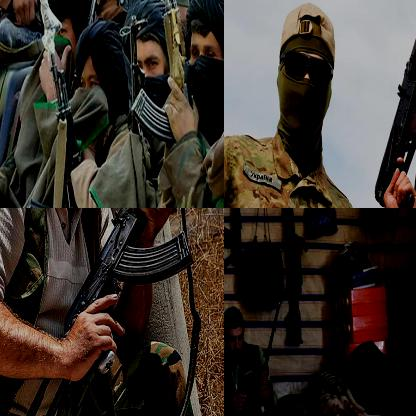rifle: (63, 208, 223, 377), (24, 0, 89, 207), (131, 0, 202, 160), (372, 0, 415, 207), (238, 285, 291, 415), (276, 208, 310, 348), (224, 208, 247, 270)
